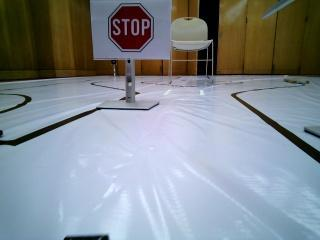stop: (96, 0, 160, 58)
